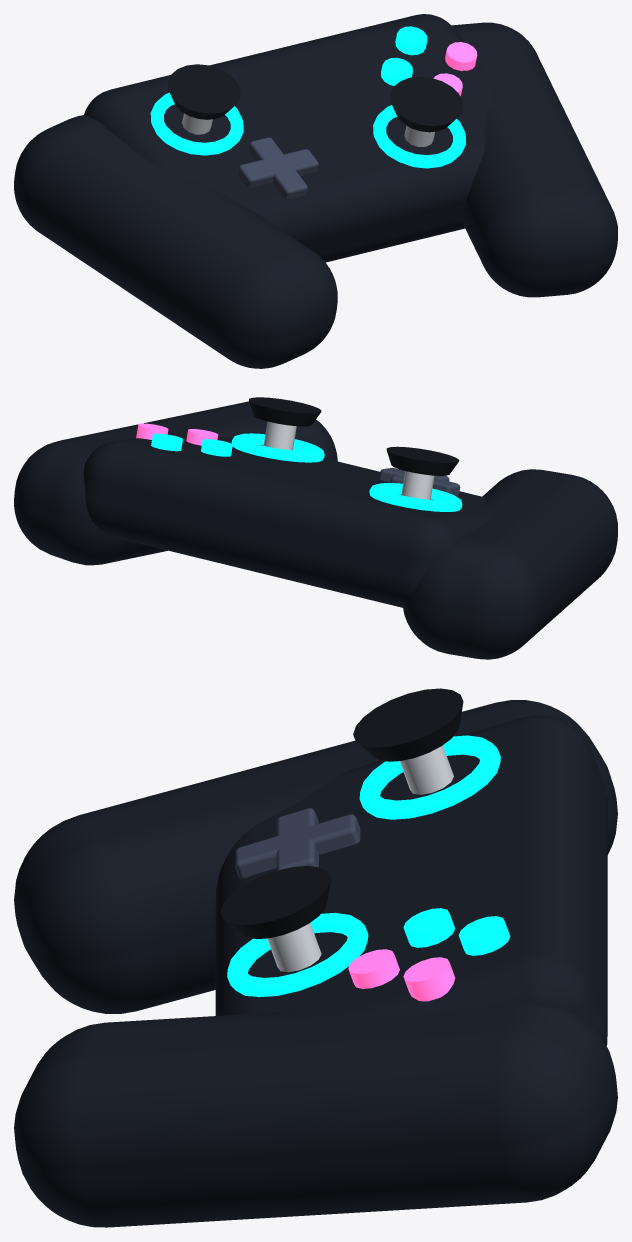
The model's file is atelier-gaming-controller-cyber.glb.
3 renders of one model, top to bottom at view 1: azimuth 30°, elevation 25°; view 2: azimuth 150°, elevation 25°; view 3: azimuth 270°, elevation 25°, orthographic. The views are drawn at different scales.
Bounding box in the file's own units: 0.1596 × 0.0606 × 0.1039.
